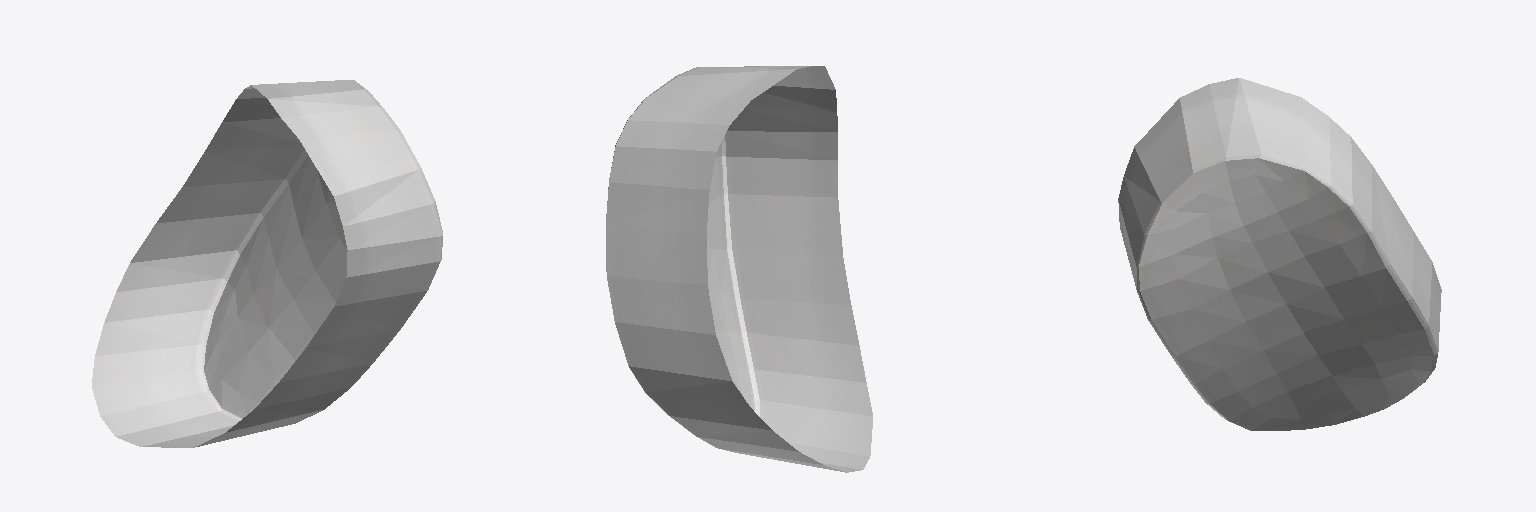
The picture shows the model from 3 angles: view 1: azimuth 30°, elevation 25°; view 2: azimuth 150°, elevation 25°; view 3: azimuth 270°, elevation 25°; orthographic projection.
Parts seen in each view (by area): view 1: left_grip; view 2: left_grip; view 3: left_grip.
Part boxes in pixels (bbox=[...]): left_grip: bbox=[92, 80, 442, 447]; left_grip: bbox=[606, 66, 872, 472]; left_grip: bbox=[1118, 78, 1441, 430].
Size of the model in its own units: 0.0147 by 0.0208 by 0.0175.
Materials: 1 (1 with a texture image).